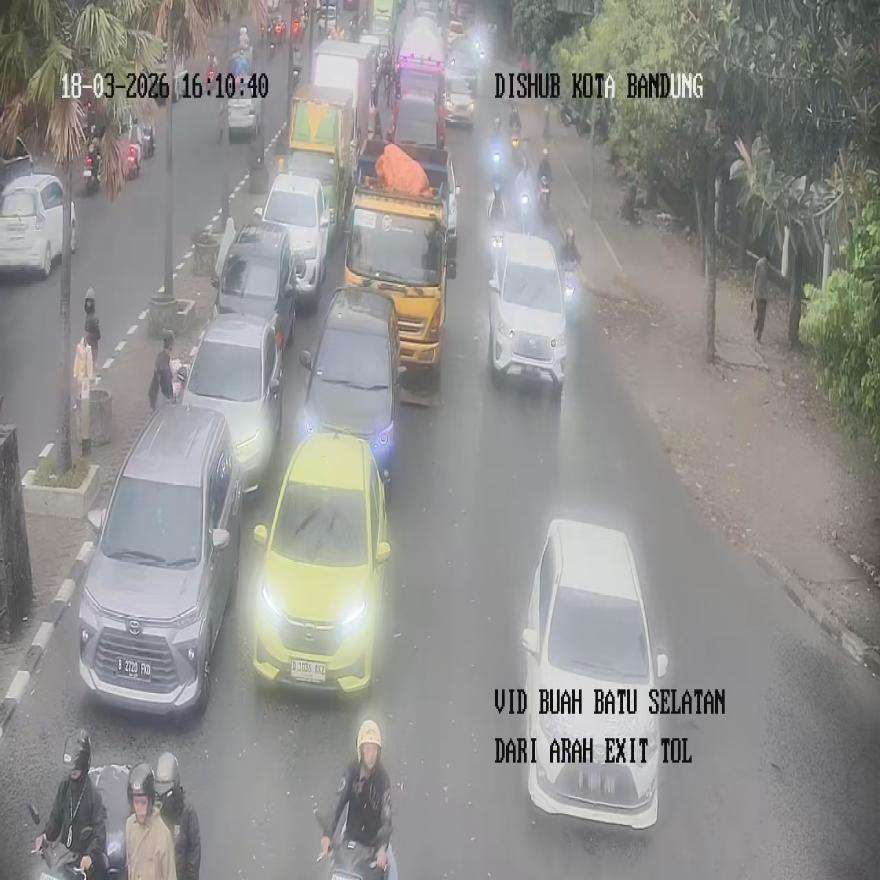Mobil: (77, 403, 241, 715), (522, 518, 667, 829), (251, 430, 389, 694), (298, 285, 404, 484), (180, 312, 282, 492), (488, 233, 567, 392), (211, 218, 298, 353), (261, 166, 333, 303), (0, 168, 77, 278)
Motor: (29, 803, 109, 879), (316, 808, 394, 880), (82, 136, 102, 196), (124, 123, 142, 178), (140, 121, 156, 159), (206, 52, 218, 96), (538, 176, 550, 214), (518, 192, 529, 233)
